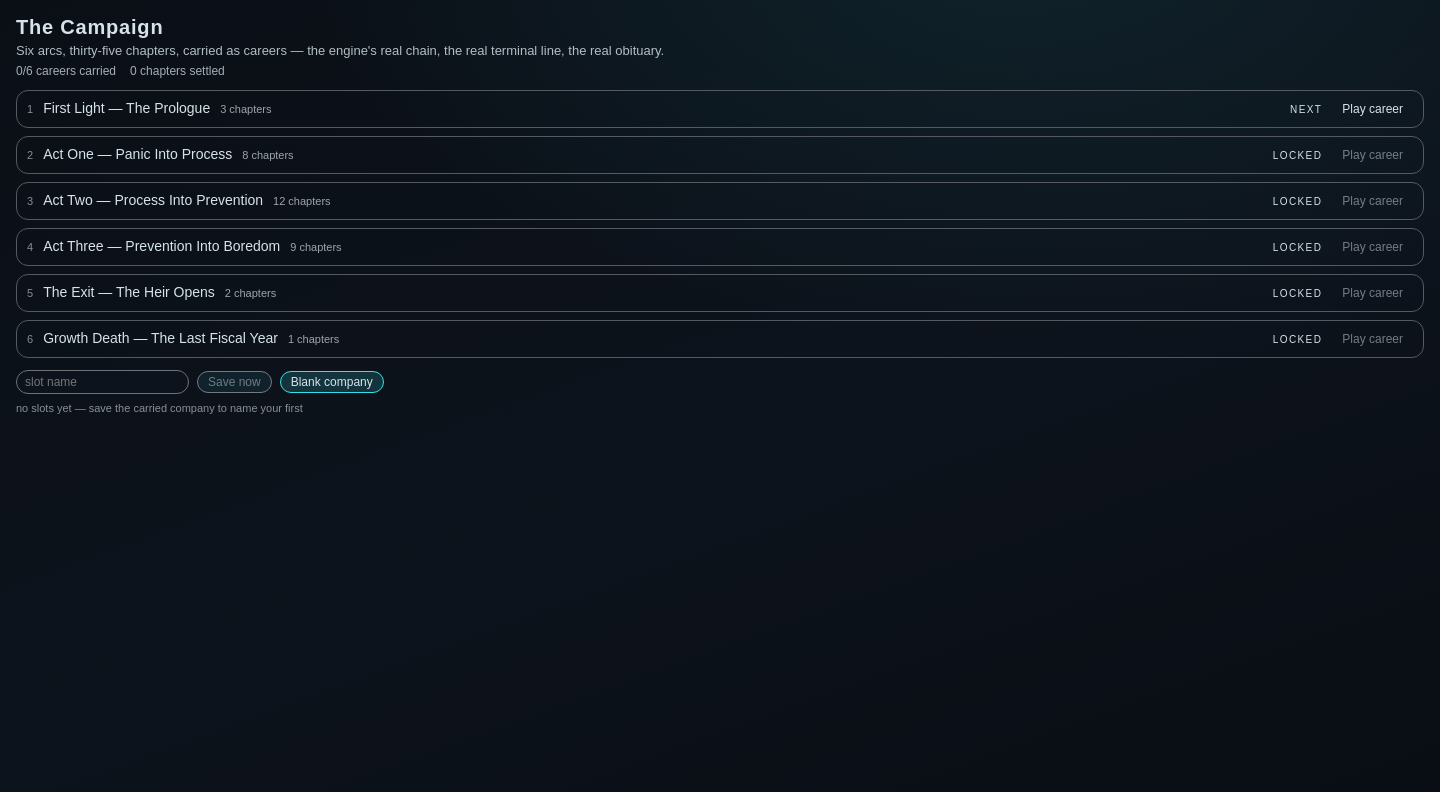
it: CampaignPanel — real play through the UI › playing the prologue lands chapter rows, the Quiet Handoff banner, and Act One as the new NEXT
Click the button with test id "camp-play-prologue-first-light": (1373, 109) [1332, 99, 1413, 119]
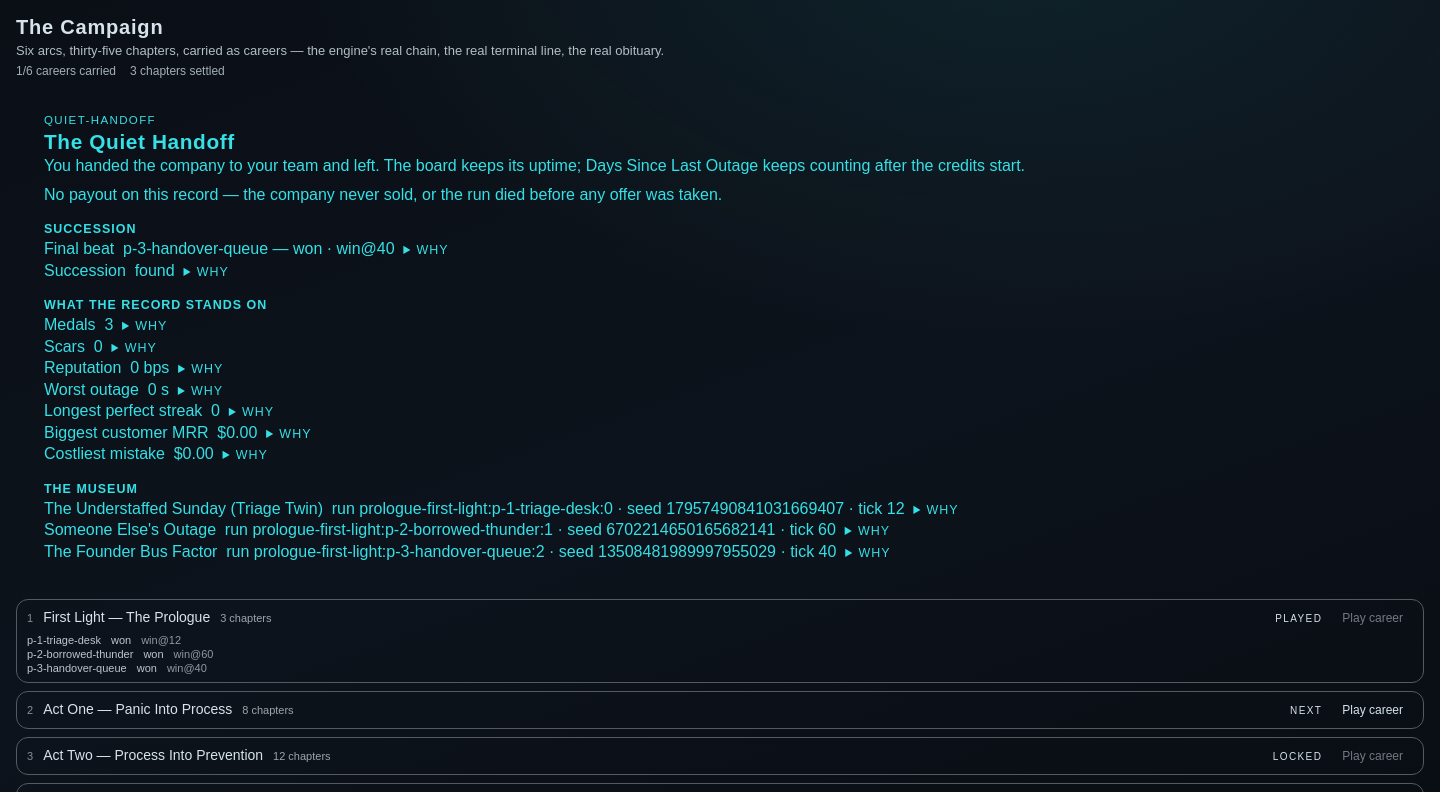
Expected: the text with test id "epilogue-kind" reads "quiet-handoff", [44, 114, 156, 126]
Expected: the heading with test id "epilogue-title" reads "The Quiet Handoff", [44, 130, 235, 153]
Expected: the text with test id "epilogue-money-absent" is shown, [44, 186, 722, 203]
